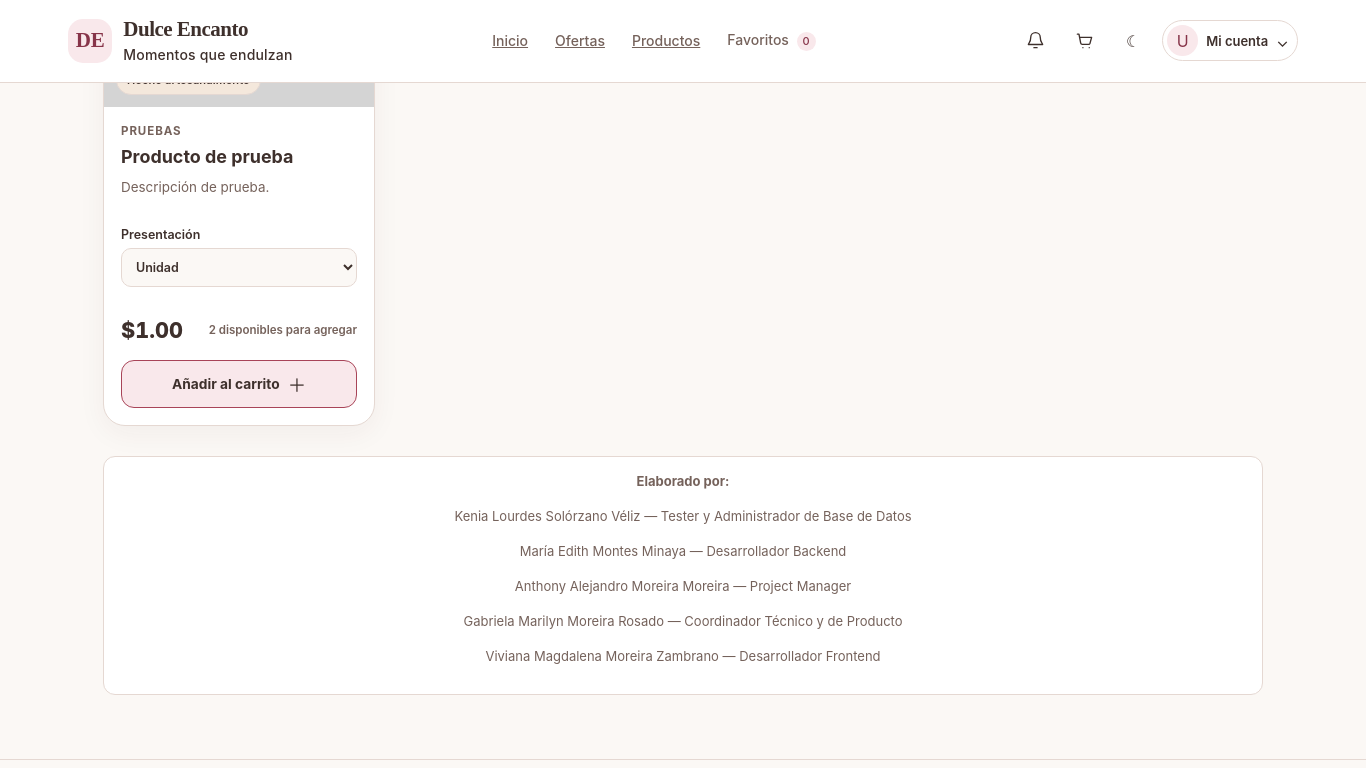
it: Casos límite del catálogo › permite volver al catálogo desde la navegación con el carrito abierto
(page scrolled)
Click the button with aria-label "Agregar Producto de prueba al carrito" at (239, 384), box [121, 360, 357, 408]
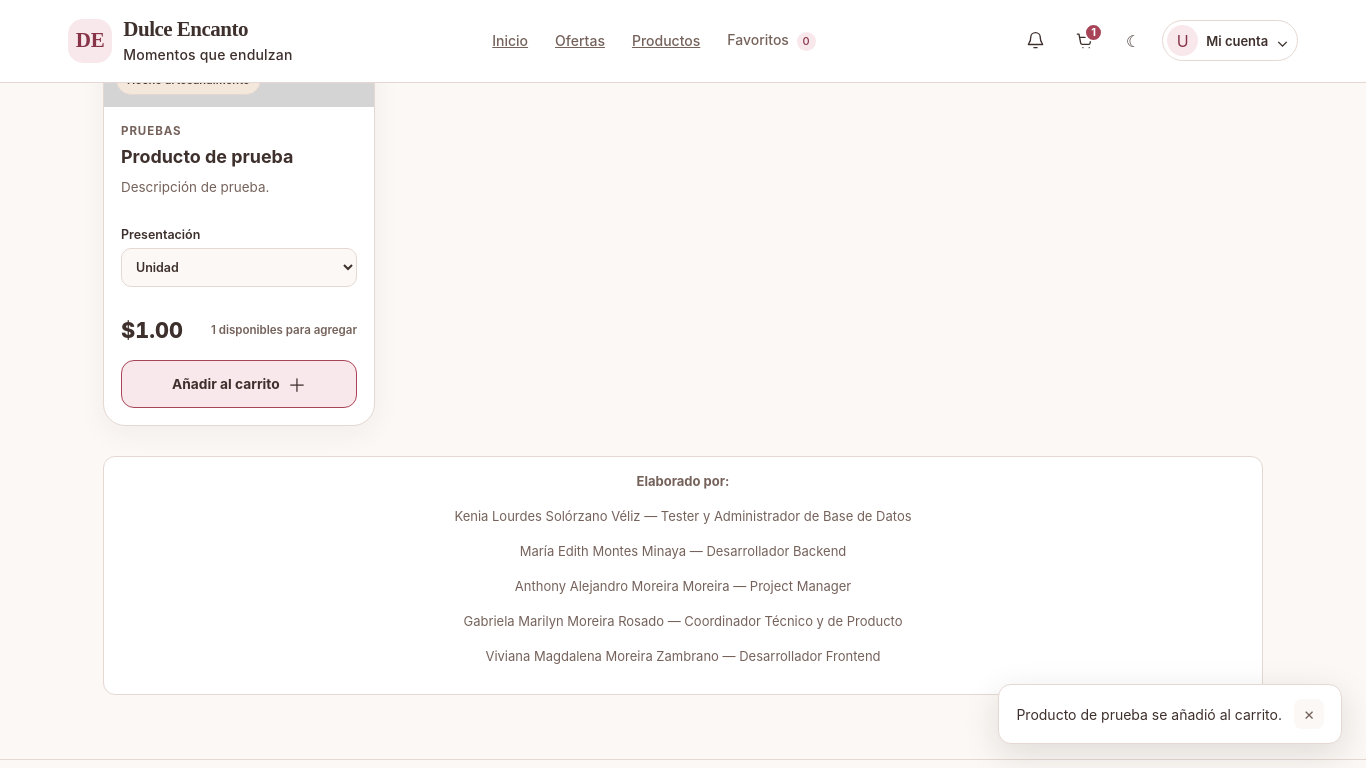
Click the button named "Carrito, 1 productos" at (1084, 41), box [1064, 21, 1104, 61]
(page scrolled)
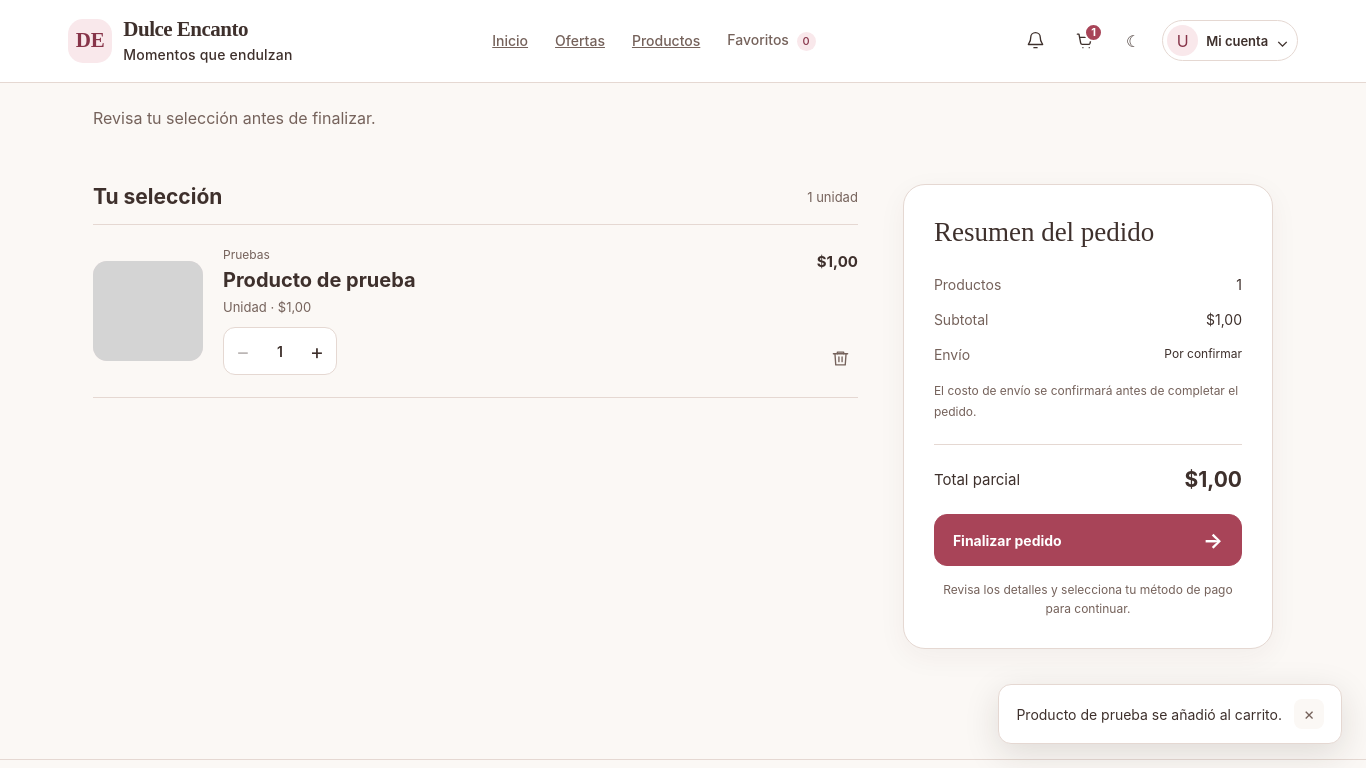
Now the heading "Mi carrito" is shown, box [93, 15, 373, 92]
Click the link "Productos" at (666, 41), box [632, 32, 700, 49]
(page scrolled)
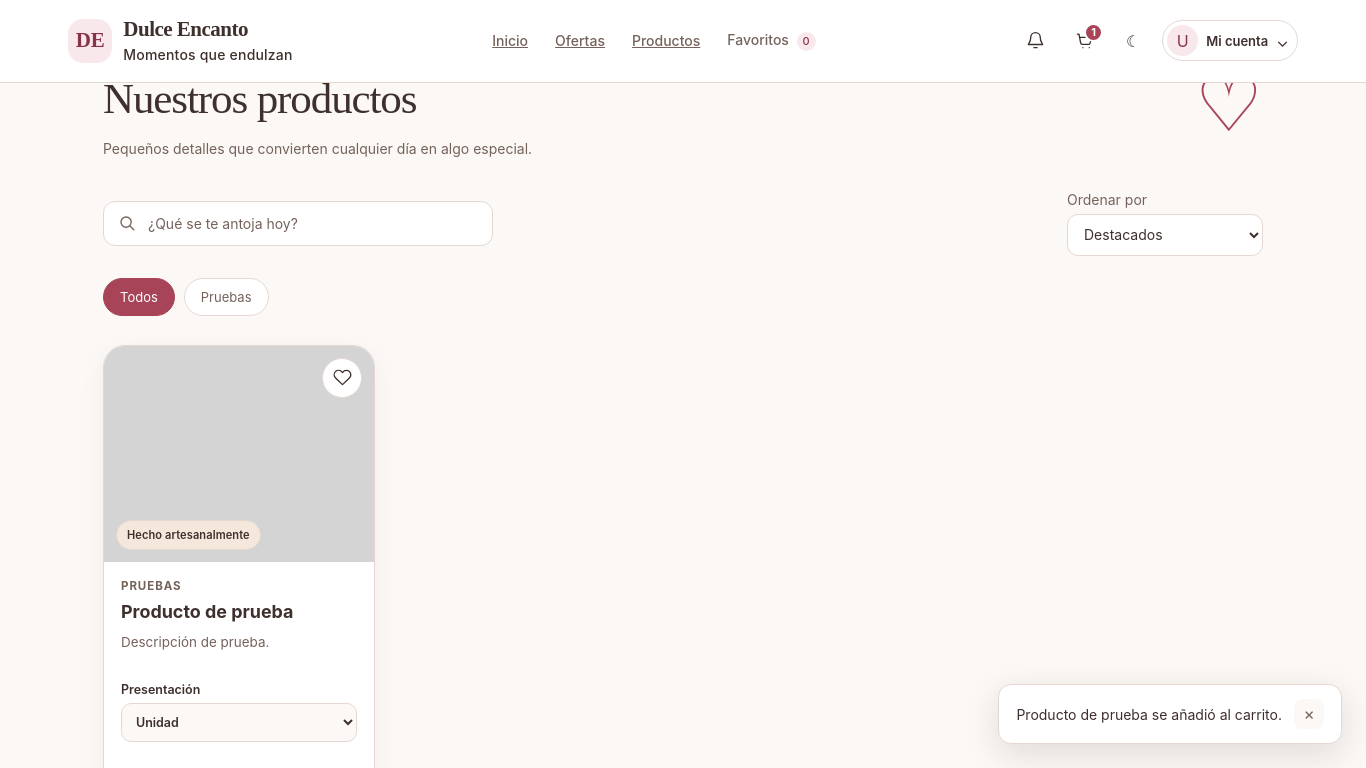
Expected: the heading "Producto de prueba" is shown, [121, 600, 294, 622]
Now the heading "Nuestros productos" is shown, box [103, 75, 416, 122]
